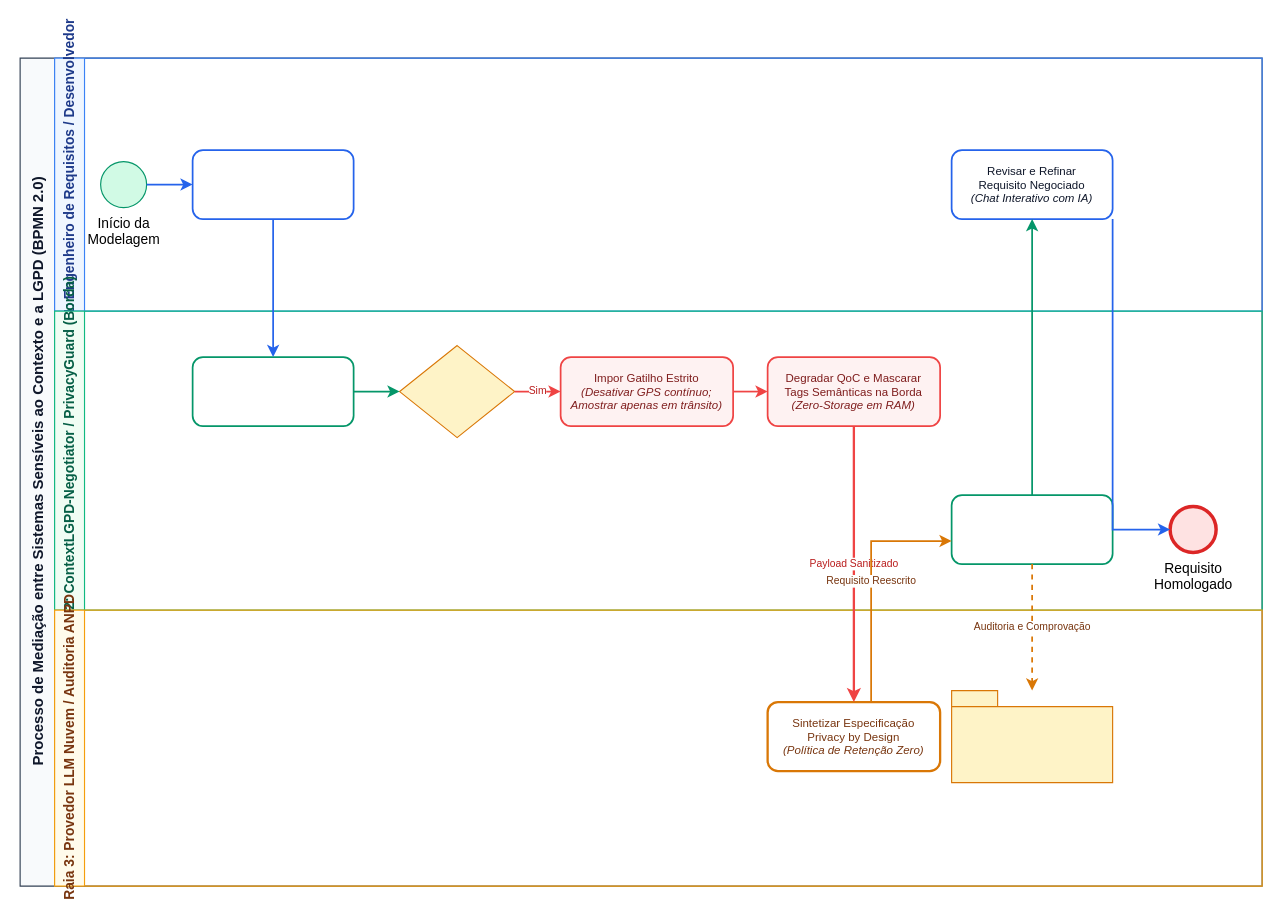
This 1282x921 diagram has some shape labels left out. The shapes that lost their labels are listed below. From the top down, each one's centre as x and y in pixels, then its label:
At point 272,184: "Especificar Cenário & Requisito Bruto (User Story, 4W, QoC)".
At point 272,391: "Decompor Vetor 4W & Calibrar QoC Sensorial (ContextParserEngine)".
At point 456,391: "Conflito com os 3 Paradoxos Detectado?".
At point 1031,529: "Gerar Matriz de Accountability (Art. 6º, X) & Relatório RIPD".
At point 1031,736: "Comprovação Técnica perante Autoridade ANPD (Dever de Diligência)".
